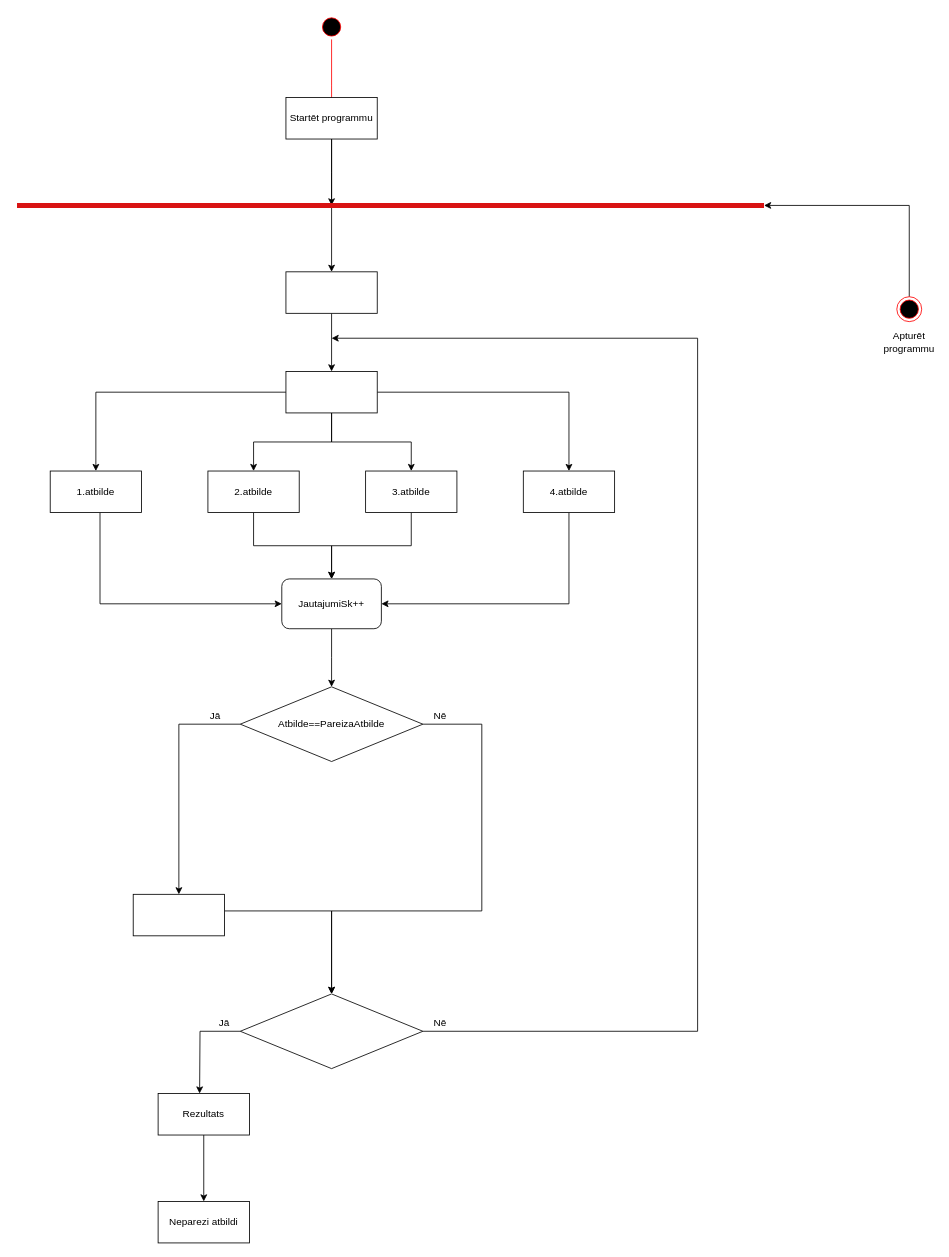
Image size: 949x1257. Some labels were removed from this diagram. Here are the shapes that lost their labels. From the top down, the centre of each, then its label:
At (x=331, y=292): "Sākt pildīt testu".
At (x=331, y=392): "Jautjums".
At (x=178, y=914): "1.p".
At (x=331, y=1031): "JautajumiSk==10".
